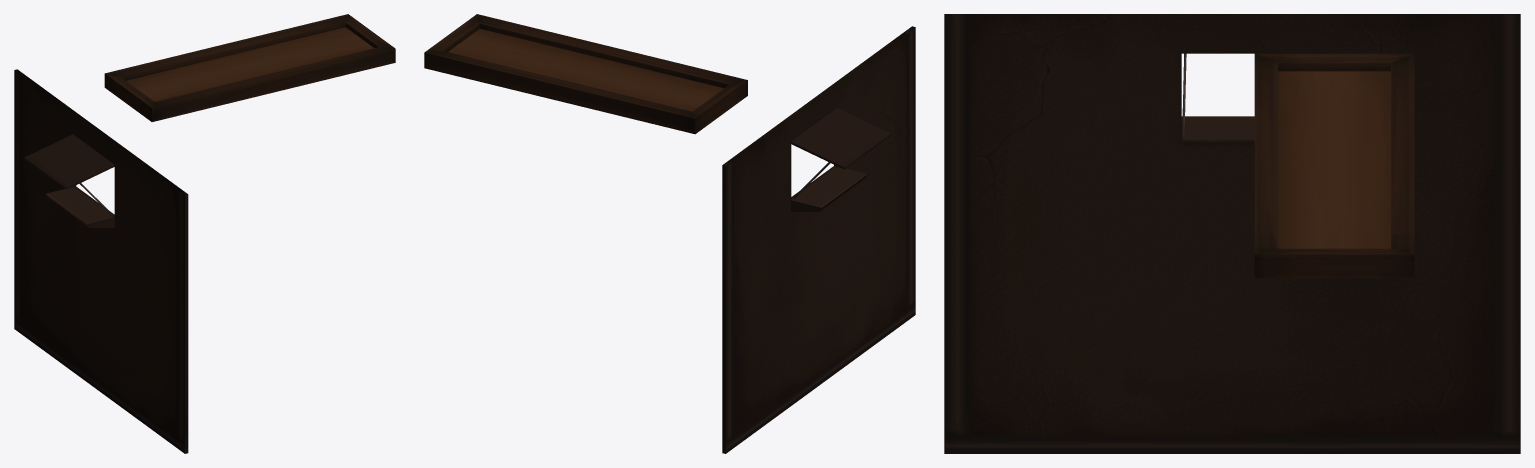
File: Carriage8_Extras.fbx
3 renders of one model, left to right at view 1: azimuth 30°, elevation 25°; view 2: azimuth 150°, elevation 25°; view 3: azimuth 270°, elevation 25°, orthographic. The views are drawn at different scales.
Parts seen in each view (by area): view 1: Lvl8WALL, Frame, Door, WindowFlap, Windowflap_ledge; view 2: Lvl8WALL, Frame, Door, WindowFlap, Windowflap_ledge; view 3: Lvl8WALL, Door, Frame, Windowflap_ledge.
Boxes of the visible parts, x1=… form: Lvl8WALL: x1=14, y1=69, x2=188, y2=453; Frame: x1=104, y1=14, x2=395, y2=121; Door: x1=126, y1=27, x2=373, y2=101; WindowFlap: x1=24, y1=134, x2=114, y2=189; Windowflap_ledge: x1=46, y1=187, x2=114, y2=227; Lvl8WALL: x1=722, y1=26, x2=915, y2=453; Frame: x1=424, y1=14, x2=747, y2=134; Door: x1=448, y1=28, x2=723, y2=111; WindowFlap: x1=791, y1=108, x2=891, y2=169; Windowflap_ledge: x1=791, y1=166, x2=867, y2=211; Lvl8WALL: x1=944, y1=14, x2=1520, y2=453; Door: x1=1278, y1=71, x2=1390, y2=248; Frame: x1=1254, y1=53, x2=1414, y2=278; Windowflap_ledge: x1=1181, y1=116, x2=1254, y2=139.
Bounding box in the file's own units: 48.69 × 35.01 × 41.
